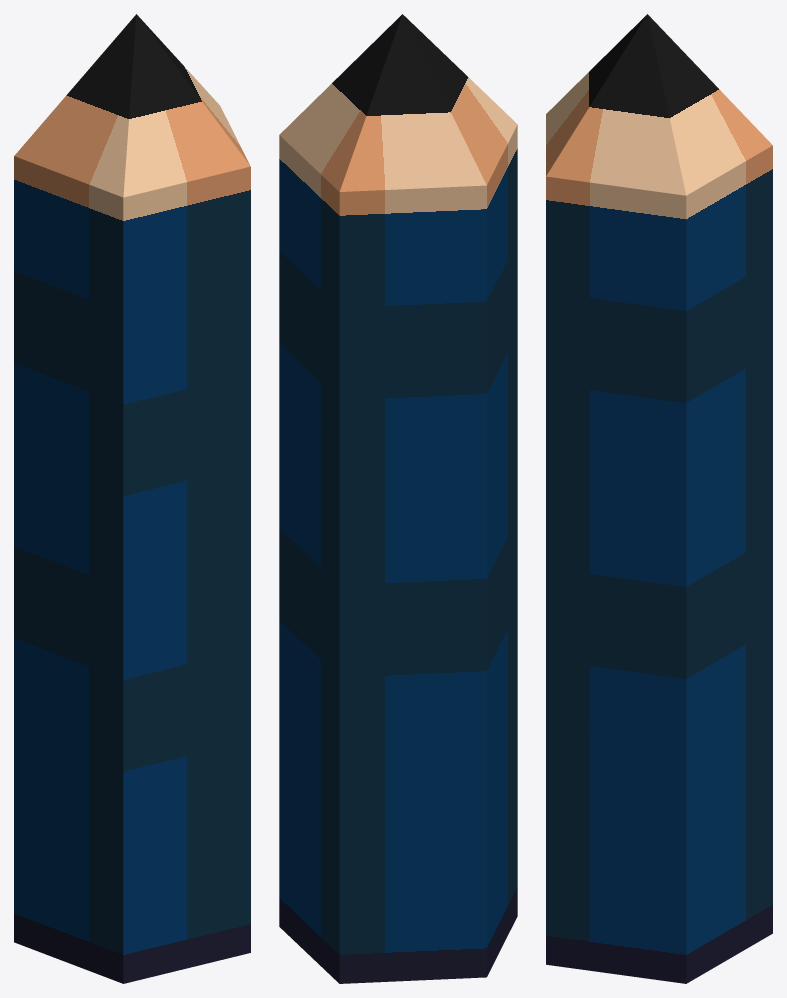
Rendered from pencil3.gltf.
The picture shows the model from 3 angles, left to right: view 1: azimuth 30°, elevation 25°; view 2: azimuth 150°, elevation 25°; view 3: azimuth 270°, elevation 25°; orthographic projection.
Visible parts, largest first — view 1: cylinder; view 2: cylinder; view 3: cylinder.
Boxes of the visible parts, x1,y1,x2,y2 form: cylinder: [14, 14, 250, 983]; cylinder: [279, 14, 517, 983]; cylinder: [546, 14, 772, 983].
Bounding box in the file's own units: 0.1469 × 0.625 × 0.1398.
1 material, 1 textured.
